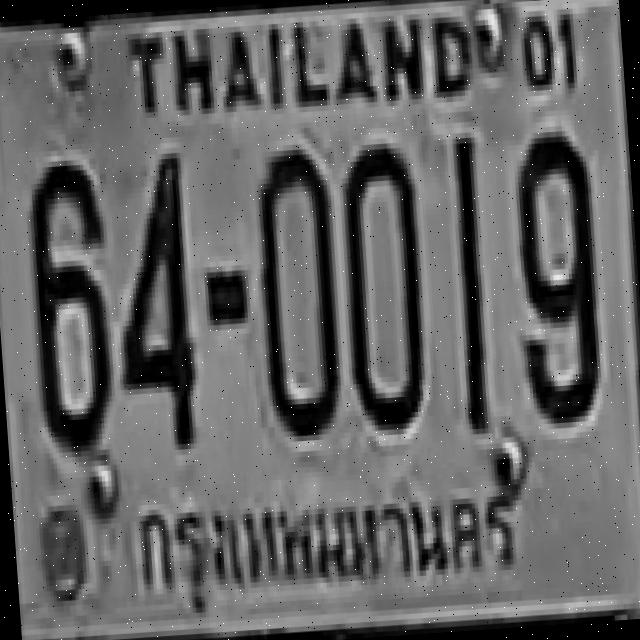0: (334, 136, 430, 432), (252, 145, 344, 435)
1: (447, 129, 492, 432)
4: (106, 147, 198, 447)
6: (19, 155, 115, 451)
9: (506, 124, 605, 420)
Bangkok: (123, 454, 532, 630)
